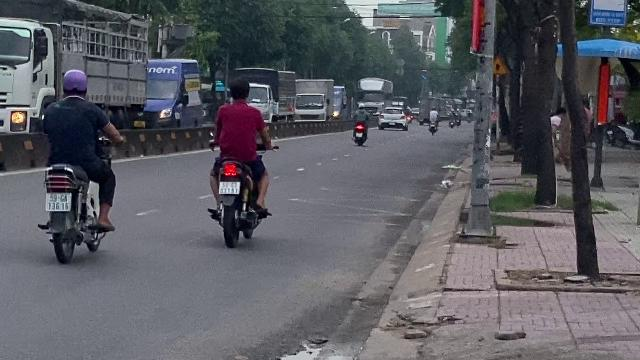helmet: (60, 68, 88, 98)
licenseplate: (46, 193, 70, 211), (220, 182, 240, 194)
motorcyclist: (33, 66, 121, 262), (203, 75, 274, 245)
nohelmet: (228, 78, 252, 103)
